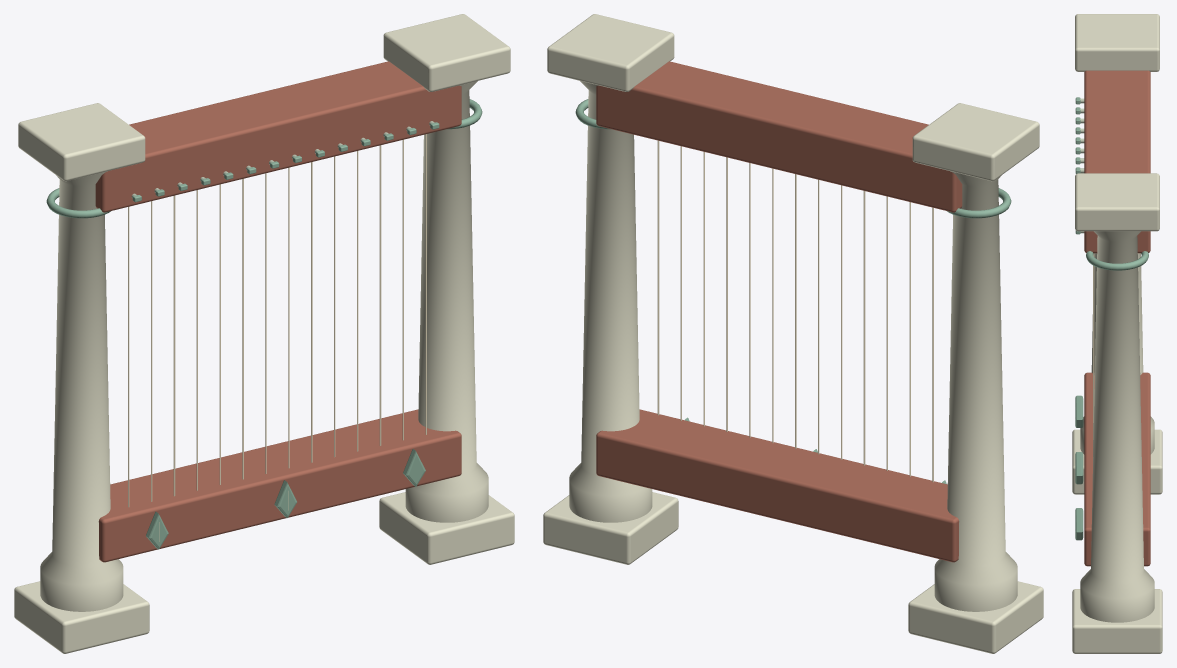
The model's file is enchanted-harp-garden-and-music-sanctuary-aeolian-harp-55ff46d6__30403.glb.
The picture shows the model from 3 angles, left to right: view 1: azimuth 30°, elevation 25°; view 2: azimuth 150°, elevation 25°; view 3: azimuth 270°, elevation 25°; orthographic projection. The views are drawn at different scales.
Parts seen in each view (by area): view 1: aeolian-harp-frame; view 2: aeolian-harp-frame; view 3: aeolian-harp-frame.
Boxes of the visible parts, left/top/right/bottom form: aeolian-harp-frame: left=14, top=14, right=514, bottom=653; aeolian-harp-frame: left=543, top=14, right=1043, bottom=653; aeolian-harp-frame: left=1072, top=14, right=1162, bottom=653.
Bounding box in the file's own units: 1.76 × 1.85 × 0.3399.
